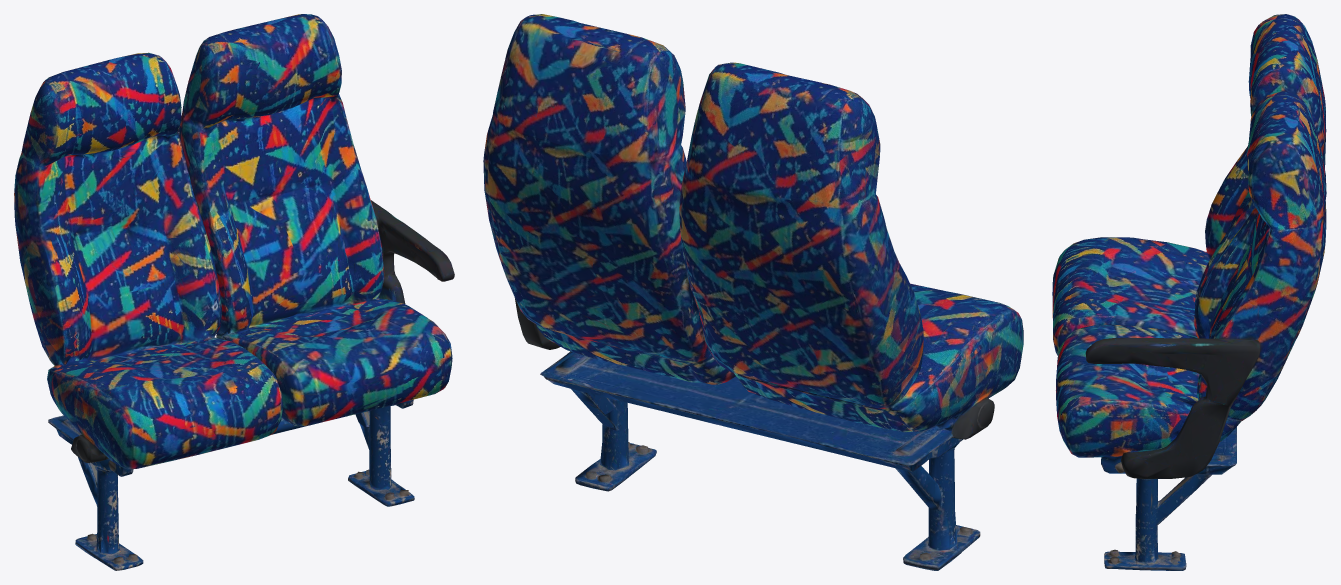
Rendered from silla.glb.
The picture shows the model from 3 angles, left to right: view 1: azimuth 30°, elevation 25°; view 2: azimuth 150°, elevation 25°; view 3: azimuth 270°, elevation 25°; orthographic projection. The views are drawn at different scales.
Bounding box in the file's own units: 1.63 × 1.9 × 1.11.
Materials: 1 (1 with a texture image).
